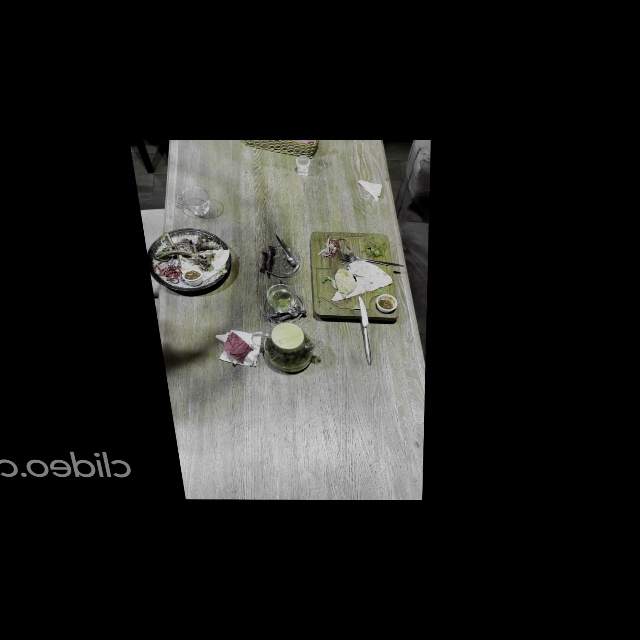графин с чаем: (251, 322, 324, 374)
закуска пустая тарелка: (309, 231, 399, 321)
мясо пустая тарелка: (142, 227, 235, 293)
